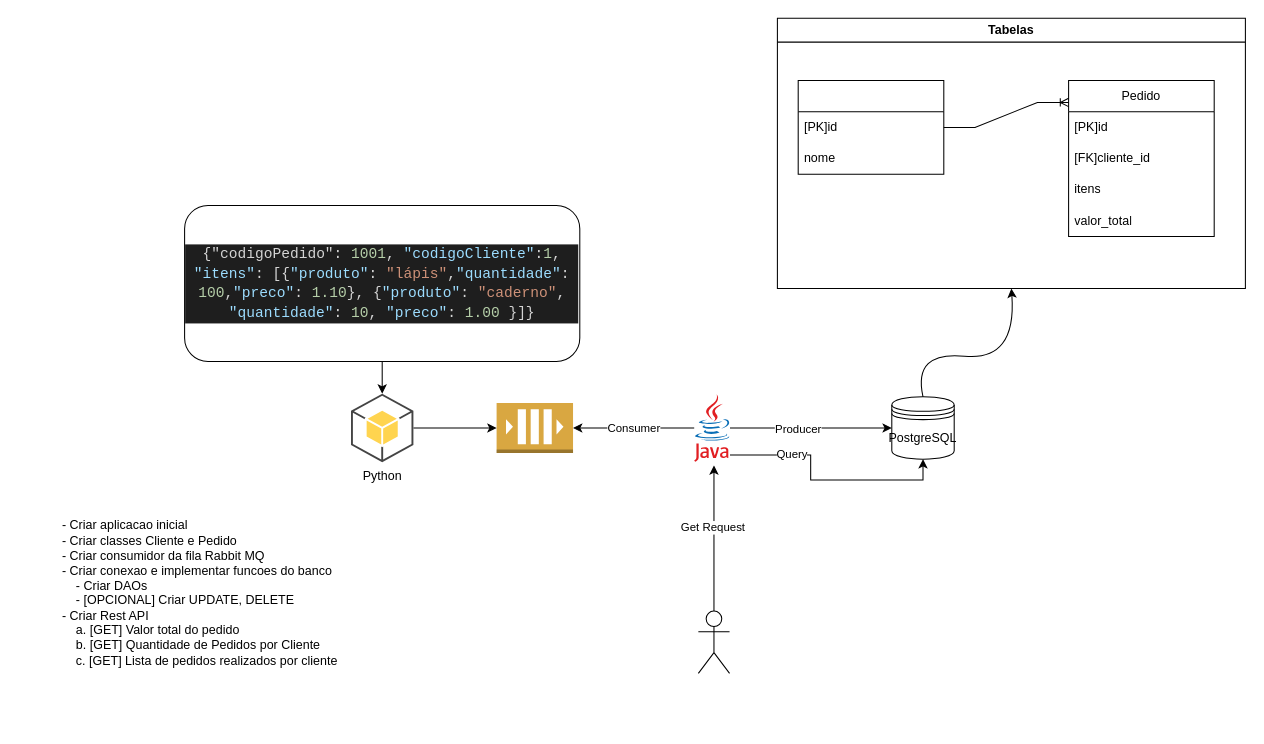
Some shapes in this 1264 by 744 pixel diagram are drawn without their labels. The box of each missing label's shape, as (x1, y1, x2, y2) in pixels:
Actor: (697, 610, 730, 673)
Cliente: (797, 80, 944, 174)
RabbitMQ: (496, 402, 573, 453)
